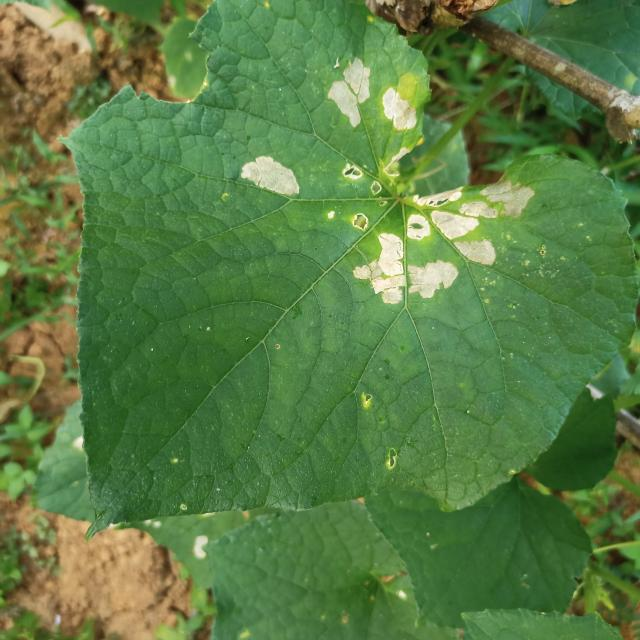disease_cucumber: (349, 175, 535, 307), (326, 56, 376, 130), (237, 150, 304, 203), (340, 160, 385, 202), (380, 86, 417, 136)
